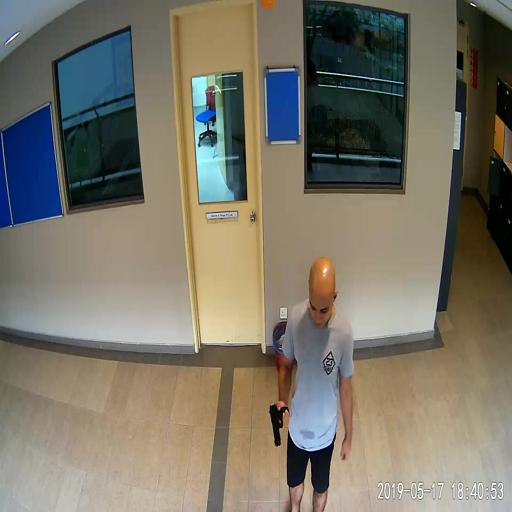pistol: (269, 401, 290, 446)
